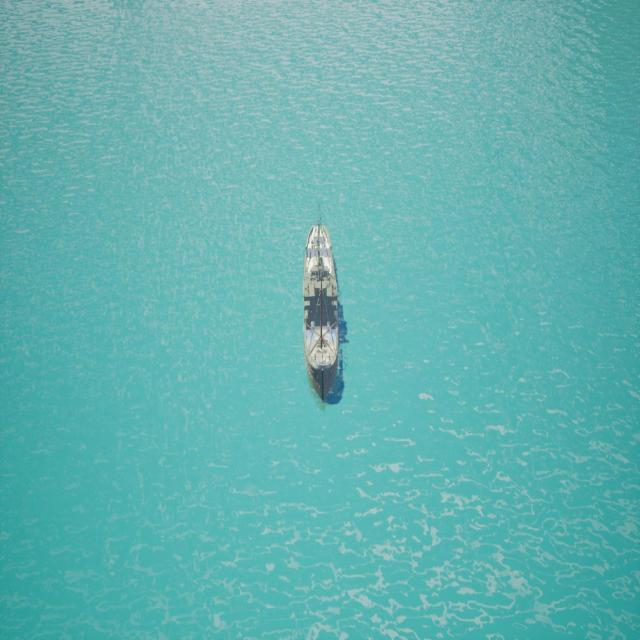fishing ship: (302, 220, 346, 411)
